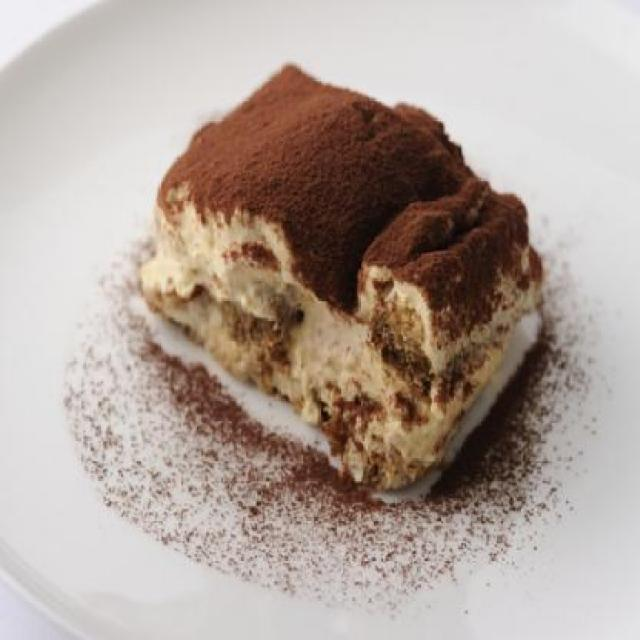Tiramisu: (167, 70, 547, 490)
